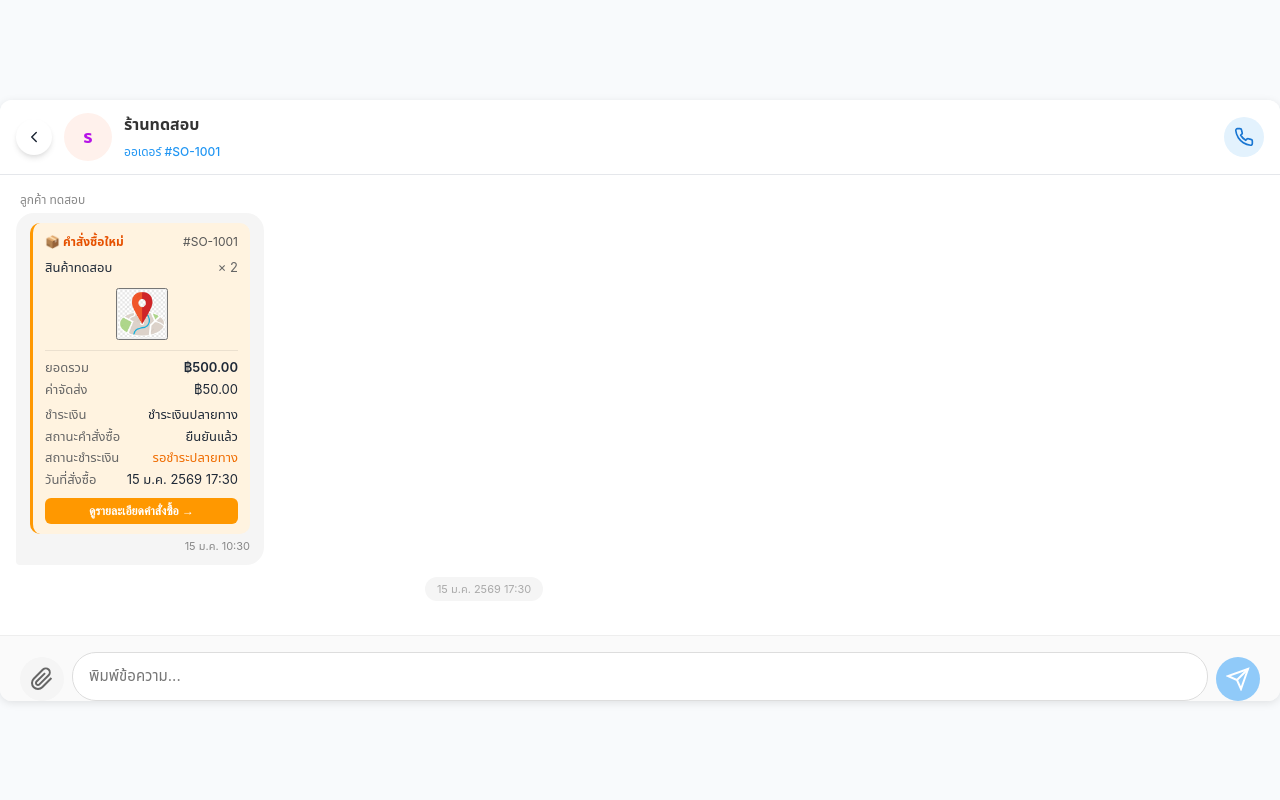
Test: ChatRoom - Order Detail Popup › opens OrderDetailModal when order card link is clicked
The image size is (1280, 800).
Click the button "ดูรายละเอียดคำสั่งซื้อ →". click: (142, 511)
box: [45,498,238,524]
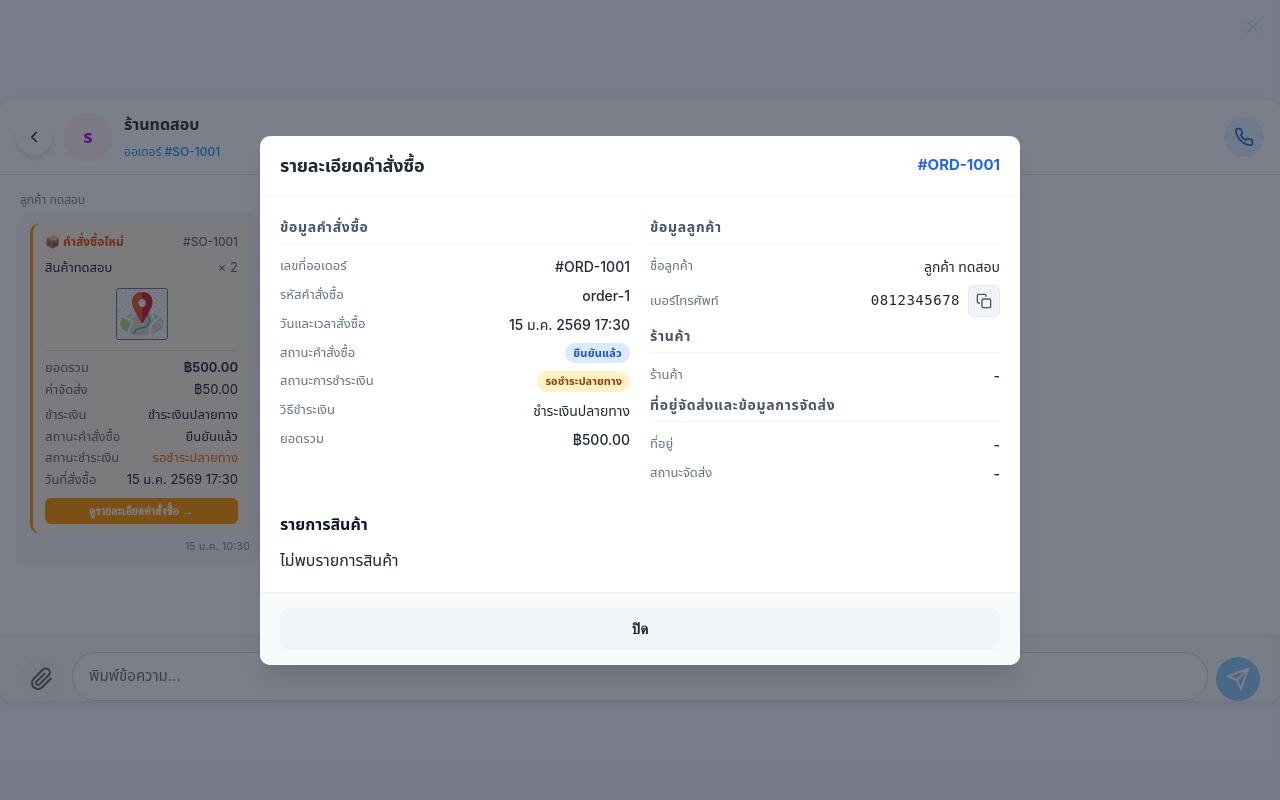
Result: the heading "รายละเอียดคำสั่งซื้อ" is shown at [280,152,424,178]
Result: the 1st text "#ORD-1001" is shown at [918,154,1000,176]
